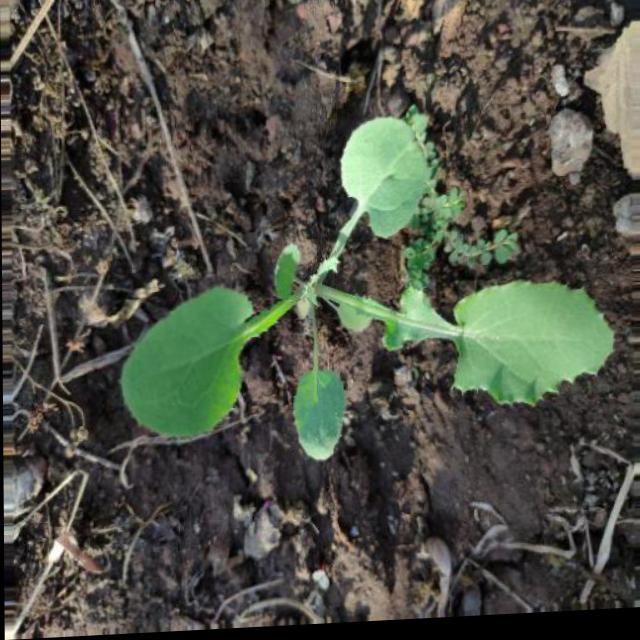weed: (100, 115, 628, 476)
